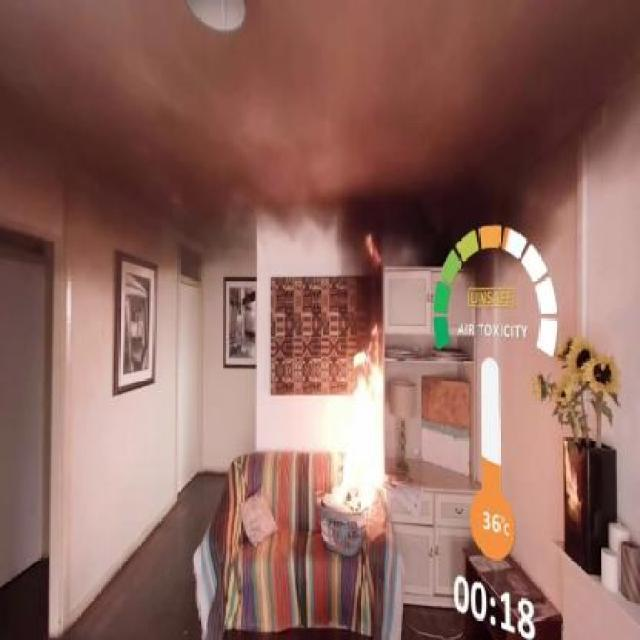fire: (316, 340, 395, 546)
smoke: (246, 150, 471, 295)
